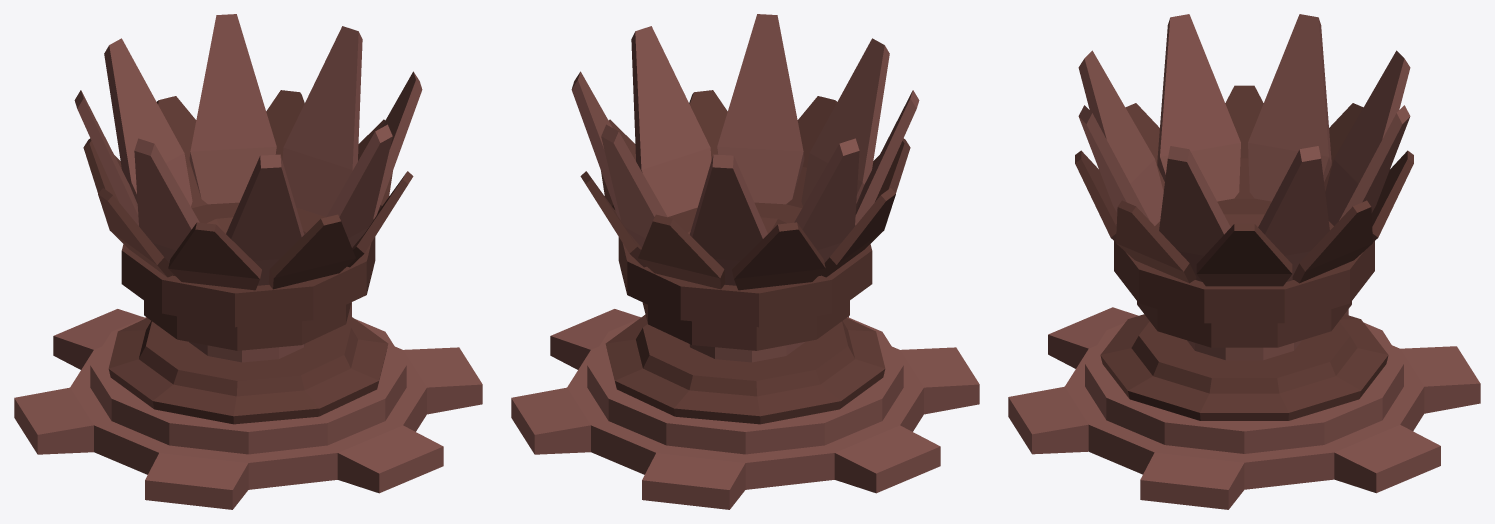
Rendered from Teleporter2.glb.
The picture shows the model from 3 angles, left to right: view 1: azimuth 30°, elevation 25°; view 2: azimuth 150°, elevation 25°; view 3: azimuth 270°, elevation 25°; orthographic projection.
Visible parts, largest first — view 1: Teleporter2, Teleporter2_Top; view 2: Teleporter2, Teleporter2_Top; view 3: Teleporter2, Teleporter2_Top.
Part boxes in pixels (box(x1,y1,x2,y2)): Teleporter2: box(14, 202, 482, 509); Teleporter2_Top: box(74, 14, 422, 290); Teleporter2: box(511, 202, 979, 509); Teleporter2_Top: box(571, 14, 919, 290); Teleporter2: box(1008, 198, 1480, 509); Teleporter2_Top: box(1075, 14, 1413, 286).
Bounding box in the file's own units: 1.38 × 1.07 × 1.38.
